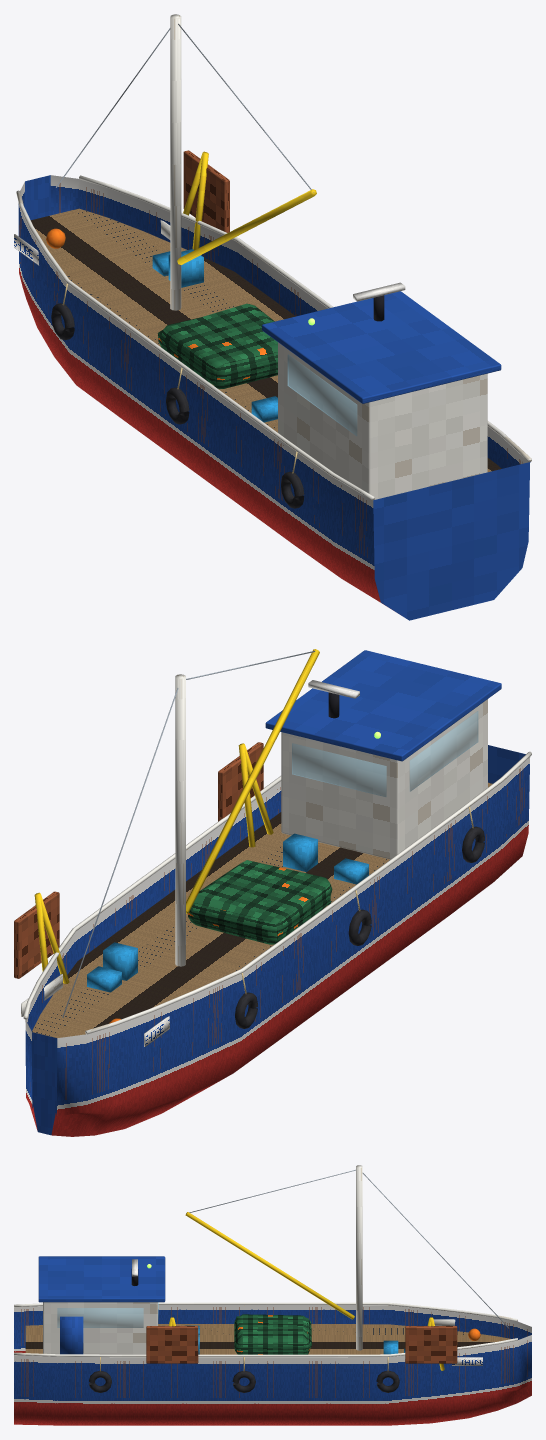
The model's file is p_pj_trawler.glb.
3 views of the same model, one above another, from view 1: azimuth 30°, elevation 25°; view 2: azimuth 150°, elevation 25°; view 3: azimuth 270°, elevation 25° (orthographic). The views are drawn at different scales.
Parts seen in each view (by area): view 1: p_pj_trawler_lod0; view 2: p_pj_trawler_lod0; view 3: p_pj_trawler_lod0.
Part boxes in pixels (x1,y1,x2,y2): p_pj_trawler_lod0: (14,14,531,620); p_pj_trawler_lod0: (14,649,531,1136); p_pj_trawler_lod0: (14,1165,531,1425).
Size of what is drawn, in the model's own units: 4.76 by 9.4 by 18.
Materials: 3 (1 with a texture image).
